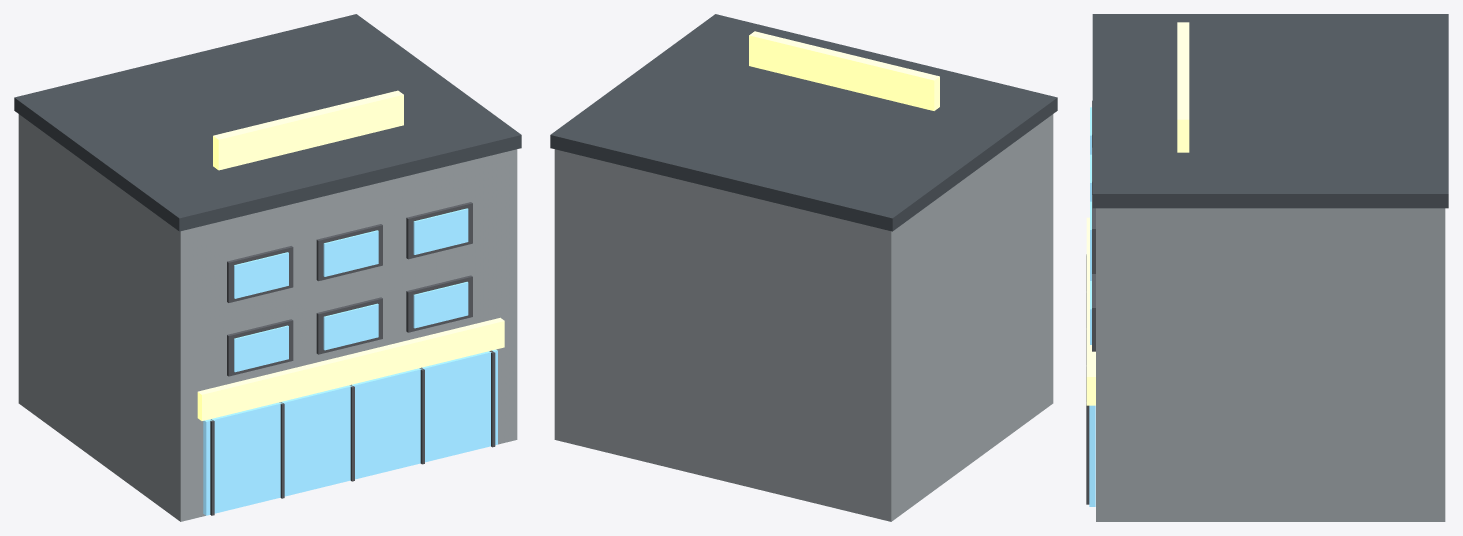
Rendered from building_commercial_a.glb.
3 views of the same model, side by side, from view 1: azimuth 30°, elevation 25°; view 2: azimuth 150°, elevation 25°; view 3: azimuth 270°, elevation 25° (orthographic). The views are drawn at different scales.
Visible parts, largest first — view 1: building_commercial_a; view 2: building_commercial_a; view 3: building_commercial_a.
Boxes of the visible parts, x1,y1,x2,y2 form: building_commercial_a: [14, 14, 521, 521]; building_commercial_a: [550, 14, 1057, 521]; building_commercial_a: [1086, 14, 1448, 521].
Bounding box in the file's own units: 12.2 × 11.45 × 10.38.
